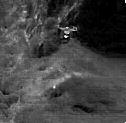Target: (55, 24, 76, 38)
